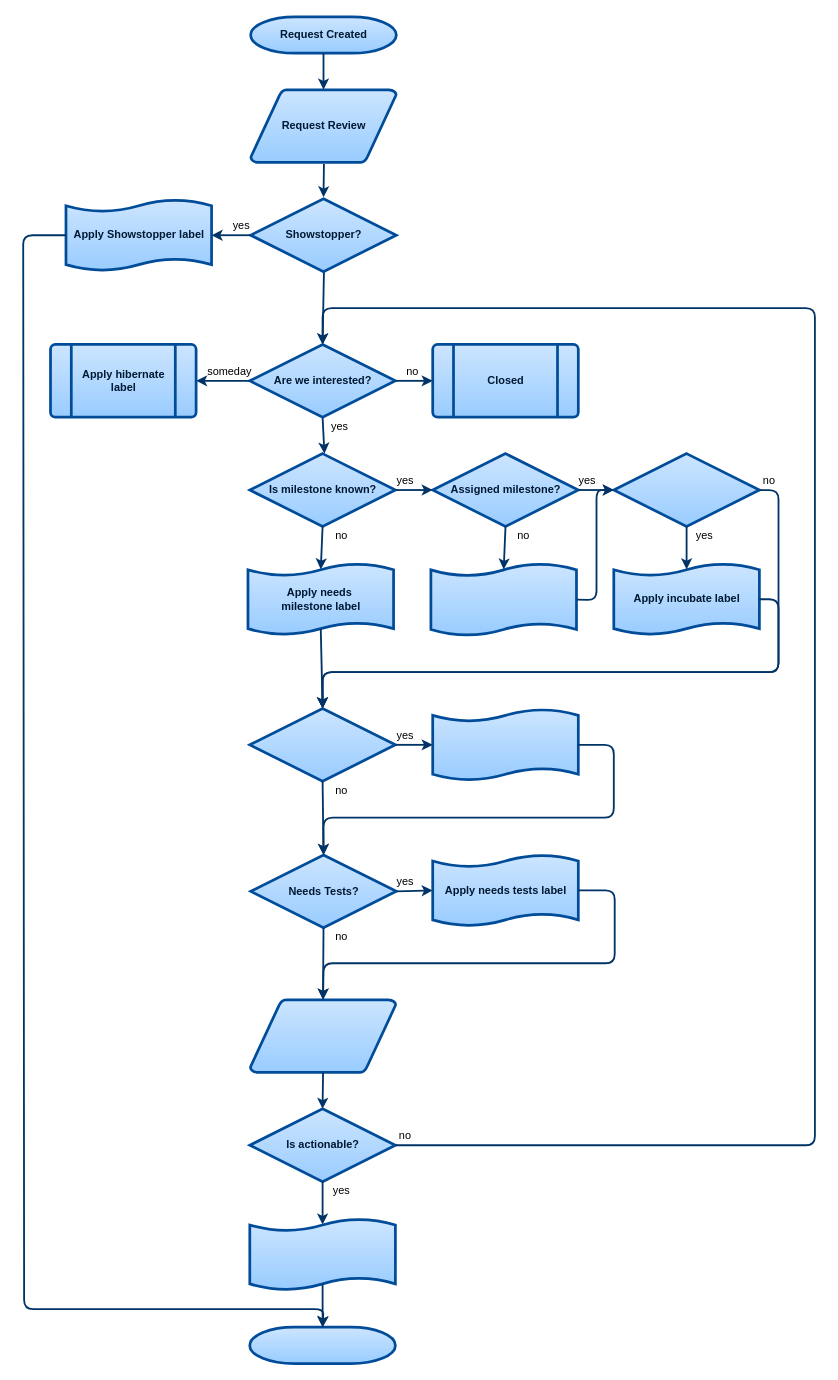
Image size: 838x1380. Some labels were removed from this diagram. The shapes that lost their labels are listed below. From the top down, each one's centre as x and y in pixels, then its label:
At pixel 686 489: "Within 1-2 milestones?".
At pixel 503 599: "Assign milestone".
At pixel 322 744: "Needs Documentation?".
At pixel 505 744: "Apply needs documentation label".
At pixel 322 1035: "check for clarity, definition, acceptance etc.".
At pixel 322 1254: "Replace incubate with actionable labels".
At pixel 322 1345: "Begin Development".
